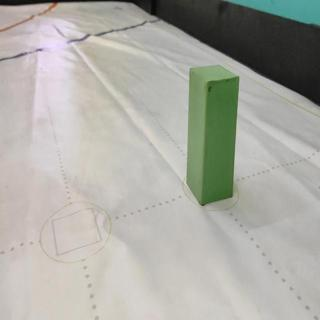greenbox: (186, 63, 241, 206)
